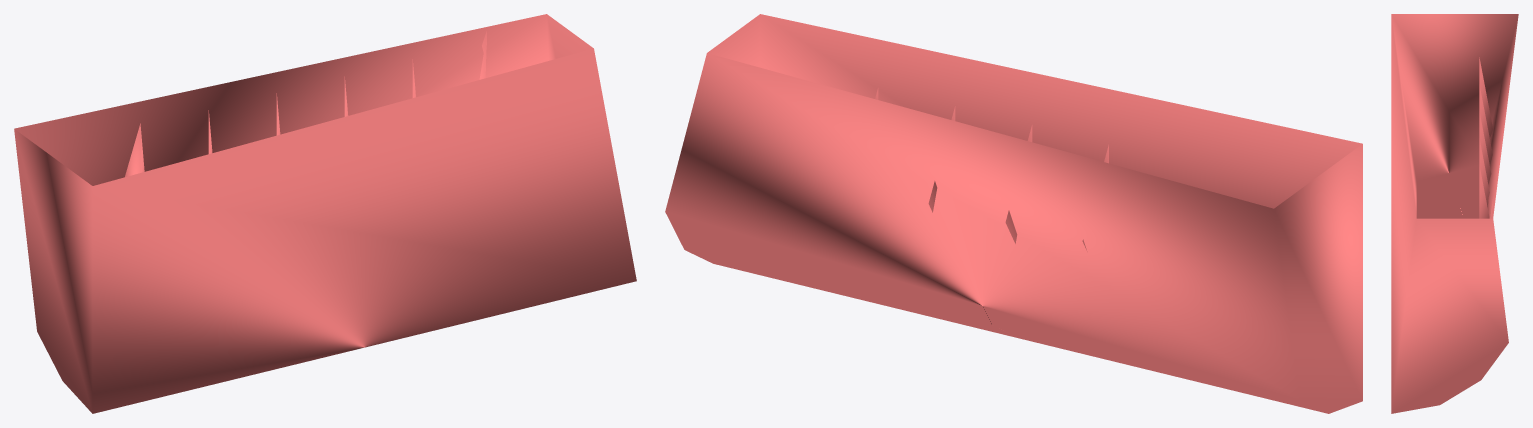
3 renders of one model, left to right at view 1: azimuth 30°, elevation 25°; view 2: azimuth 150°, elevation 25°; view 3: azimuth 270°, elevation 25°, orthographic. The views are drawn at different scales.
Parts seen in each view (by area): view 1: LDrawPart; view 2: LDrawPart; view 3: LDrawPart.
Boxes of the visible parts, left/top/right/bottom form: LDrawPart: left=14, top=14, right=636, bottom=413; LDrawPart: left=665, top=14, right=1362, bottom=413; LDrawPart: left=1391, top=14, right=1518, bottom=413.
Bounding box in the file's own units: 0.56 × 0.224 × 0.14.
